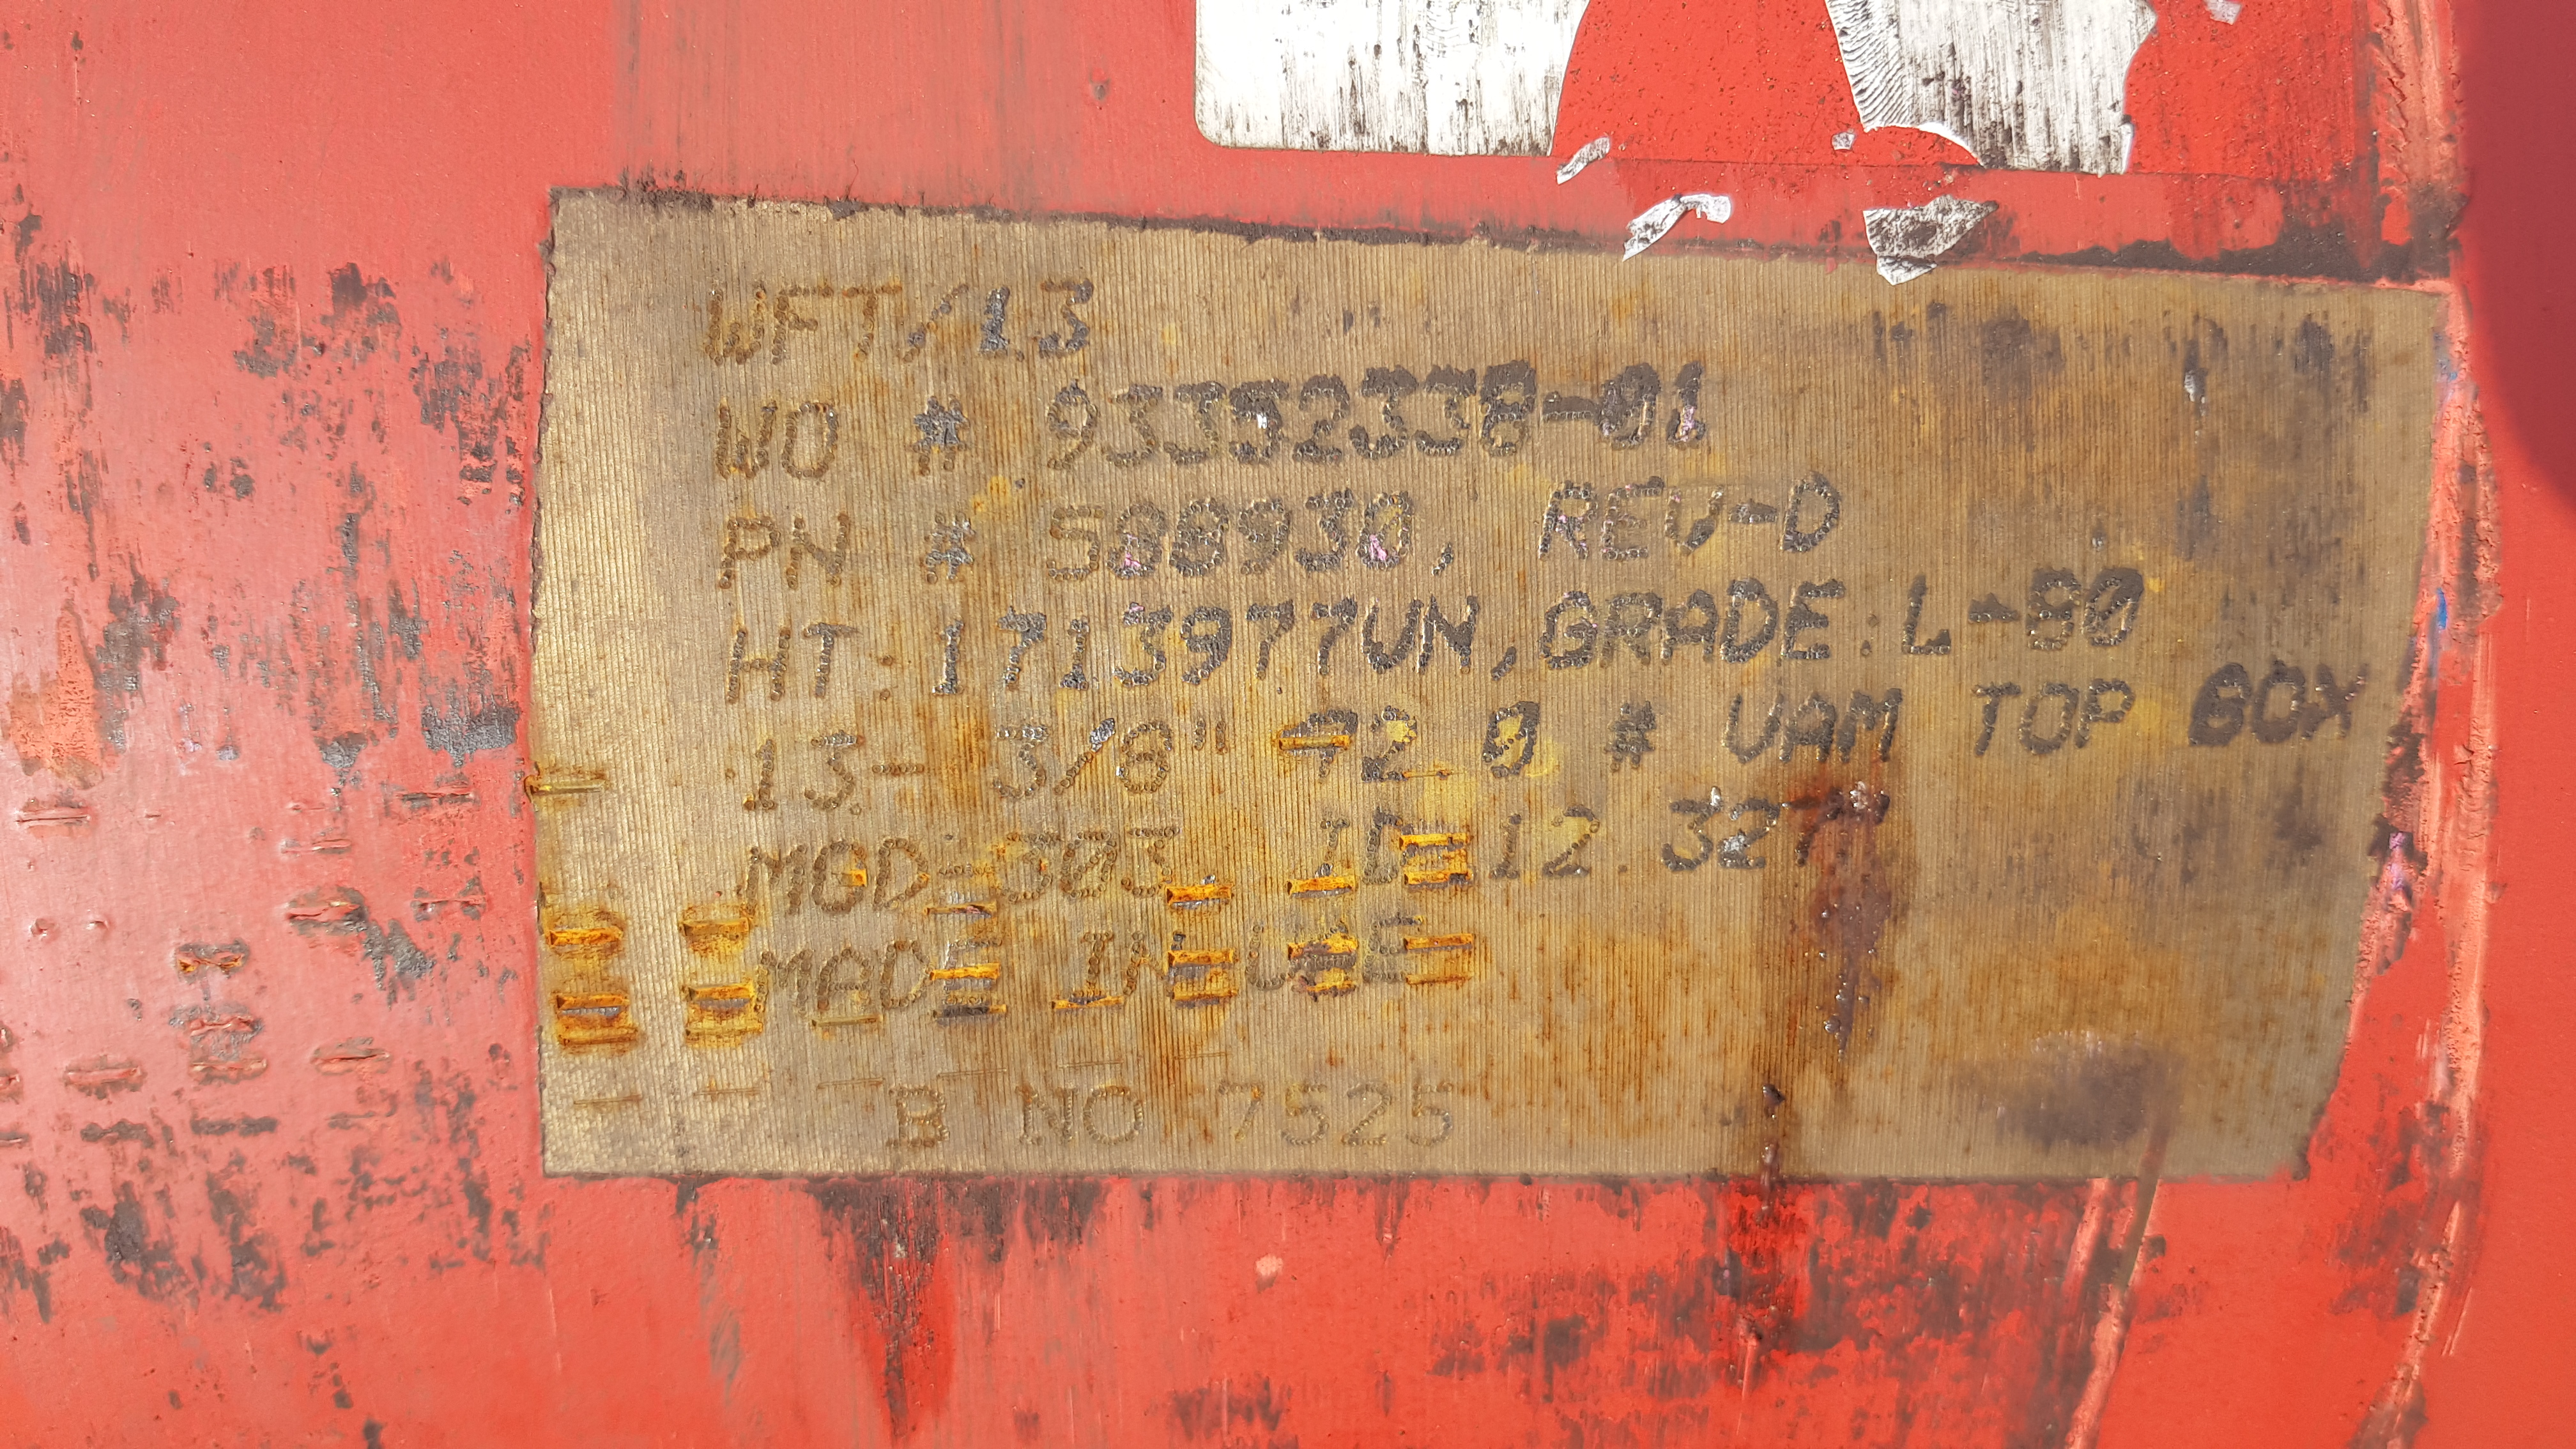character: (695, 267, 773, 372), (879, 1074, 970, 1157), (1279, 701, 1359, 787), (1348, 364, 1419, 458), (1778, 573, 1849, 667), (1591, 366, 1667, 453), (1419, 363, 1483, 465), (1479, 363, 1543, 464), (2189, 655, 2254, 752), (780, 398, 853, 485), (1173, 602, 1246, 688), (1718, 573, 1783, 669), (1419, 594, 1490, 681), (1164, 377, 1228, 472), (1534, 587, 1605, 672), (713, 396, 782, 483), (842, 278, 906, 372), (1040, 377, 1100, 476), (929, 931, 1007, 1007), (1228, 373, 1290, 469), (1118, 929, 1191, 1010), (1042, 501, 1109, 587), (1231, 487, 1293, 580), (1039, 271, 1104, 359), (1783, 469, 1849, 557), (2305, 662, 2371, 750), (1106, 380, 1166, 476), (1599, 479, 1668, 563), (1598, 589, 1665, 674), (1113, 713, 1180, 798), (1721, 685, 1789, 770), (1658, 474, 1723, 561), (725, 623, 793, 706), (1293, 372, 1355, 462), (913, 278, 973, 370), (1897, 568, 1957, 660), (787, 515, 856, 594), (738, 842, 807, 922), (1238, 915, 1306, 996), (2081, 566, 2141, 656), (916, 506, 980, 591), (1058, 824, 1122, 909), (713, 515, 784, 591), (1836, 688, 1907, 764), (777, 276, 835, 368), (1359, 483, 1417, 575), (1115, 600, 1173, 692), (911, 391, 973, 478), (1481, 701, 1548, 780), (1539, 478, 1599, 566), (1109, 499, 1173, 582), (2022, 563, 2079, 655), (1300, 488, 1361, 573), (2249, 662, 2305, 752), (798, 621, 863, 699), (998, 830, 1063, 908), (1178, 492, 1233, 584), (1302, 814, 1364, 895), (994, 610, 1051, 699), (750, 945, 821, 1016), (1339, 1070, 1396, 1159), (1361, 915, 1430, 987), (805, 731, 865, 814), (1357, 807, 1417, 890), (1658, 796, 1718, 879), (1364, 598, 1424, 679), (812, 839, 872, 920), (1012, 1081, 1081, 1152), (2019, 681, 2077, 764), (1306, 598, 1361, 685), (991, 718, 1049, 800), (1051, 718, 1113, 794), (2077, 674, 2134, 757), (872, 833, 929, 916), (1074, 922, 1127, 1010), (1599, 699, 1663, 771), (1783, 789, 1840, 870), (1120, 826, 1180, 902), (1543, 807, 1603, 883), (1661, 589, 1720, 667), (1399, 1083, 1467, 1150), (1083, 1079, 1148, 1148), (1364, 706, 1421, 786), (879, 936, 936, 1016), (1277, 1074, 1336, 1150), (1785, 686, 1835, 775), (1210, 1074, 1272, 1145), (1247, 600, 1302, 679), (1723, 798, 1783, 870), (1306, 918, 1366, 991), (978, 276, 1024, 364), (816, 952, 876, 1019), (1973, 678, 2022, 759), (929, 610, 973, 699), (741, 740, 789, 814), (1063, 610, 1099, 697), (1491, 810, 1529, 888), (1964, 596, 2026, 632), (1548, 393, 1603, 432), (1730, 499, 1780, 534), (867, 759, 929, 782)
